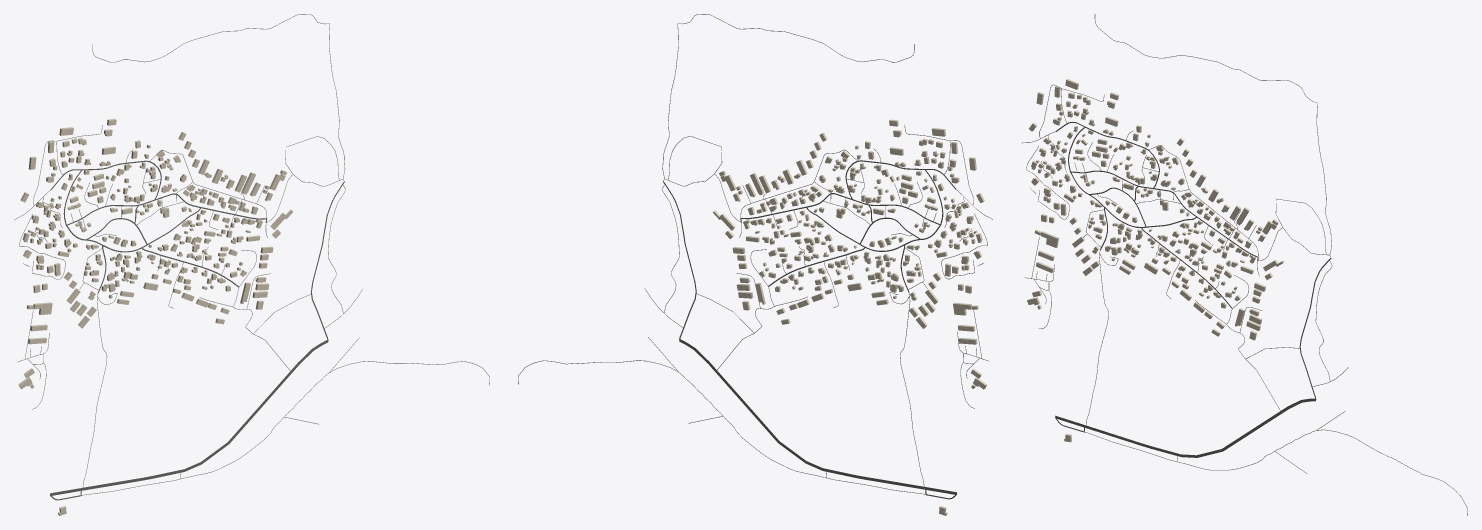
Rendered from historic-palestine-08_23_3500_3176.glb.
3 renders of one model, left to right at view 1: azimuth 30°, elevation 25°; view 2: azimuth 150°, elevation 25°; view 3: azimuth 330°, elevation 25°, orthographic. The views are drawn at different scales.
Parts seen in each view (by area): view 1: Road 3856; view 2: Road 3856; view 3: Road 3856.
Part boxes in pixels (box(x1,y1,x2,y2)): Road 3856: box(81, 340, 328, 490); Road 3856: box(679, 339, 925, 489); Road 3856: box(1084, 398, 1315, 457).
Size of the model in its own units: 1392 by 1296 by 8.7.
